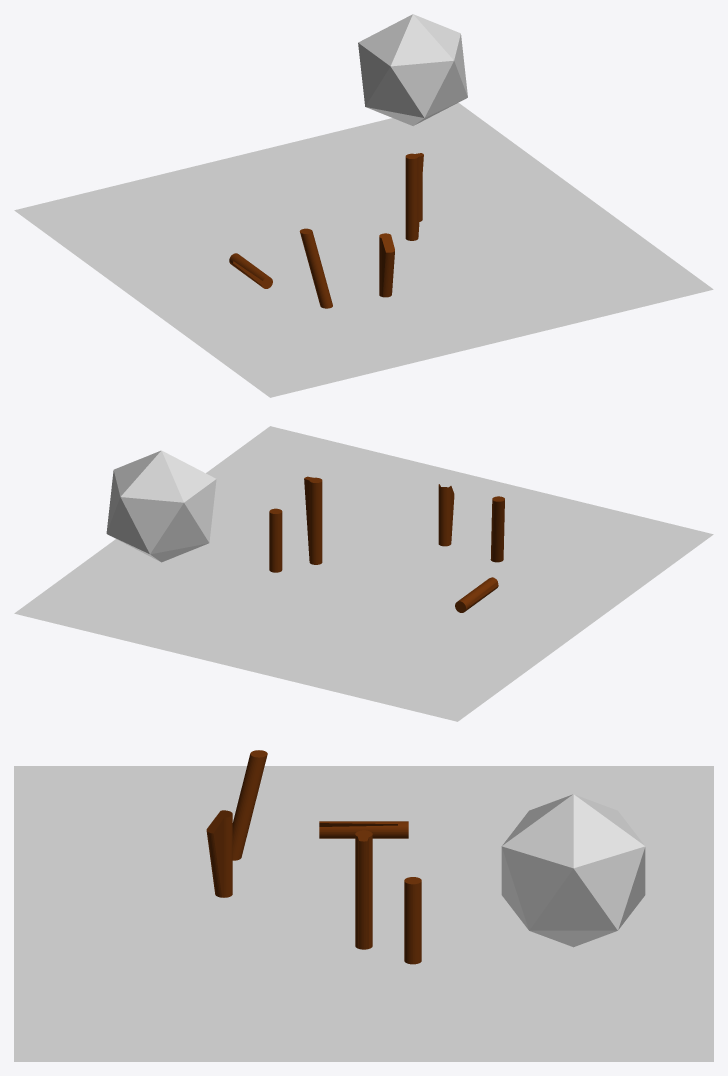
The picture shows the model from 3 angles, top to bottom: view 1: azimuth 30°, elevation 25°; view 2: azimuth 150°, elevation 25°; view 3: azimuth 270°, elevation 25°; orthographic projection. The views are drawn at different scales.
Visible parts, largest first — view 1: Plane.002, Icosphere, Cylinder.012, Cylinder.013, Cylinder.011, Cylinder.014; view 2: Plane.002, Icosphere, Cylinder.012, Cylinder.011, Cylinder.010, Cylinder.013, Cylinder.014; view 3: Plane.002, Icosphere, Cylinder.012, Cylinder.011, Cylinder.013, Cylinder.010, Cylinder.014.
Boxes of the visible parts, x1,y1,x2,y2 form: Plane.002: (14, 102, 713, 397); Icosphere: (358, 14, 467, 125); Cylinder.012: (405, 153, 423, 240); Cylinder.013: (299, 228, 332, 308); Cylinder.011: (379, 233, 394, 297); Cylinder.014: (229, 253, 272, 288); Plane.002: (14, 426, 713, 721); Icosphere: (106, 450, 216, 562); Cylinder.012: (304, 476, 322, 564); Cylinder.011: (438, 484, 454, 546); Cylinder.010: (269, 508, 282, 572); Cylinder.013: (490, 496, 504, 562); Cylinder.014: (455, 577, 498, 612); Plane.002: (14, 766, 713, 1061); Icosphere: (501, 794, 645, 947); Cylinder.012: (355, 830, 372, 949); Cylinder.011: (206, 810, 232, 897); Cylinder.013: (232, 750, 267, 860); Cylinder.010: (404, 877, 421, 964); Cylinder.014: (319, 821, 408, 838).
Bounding box in the file's own units: 80 × 25.77 × 80.
